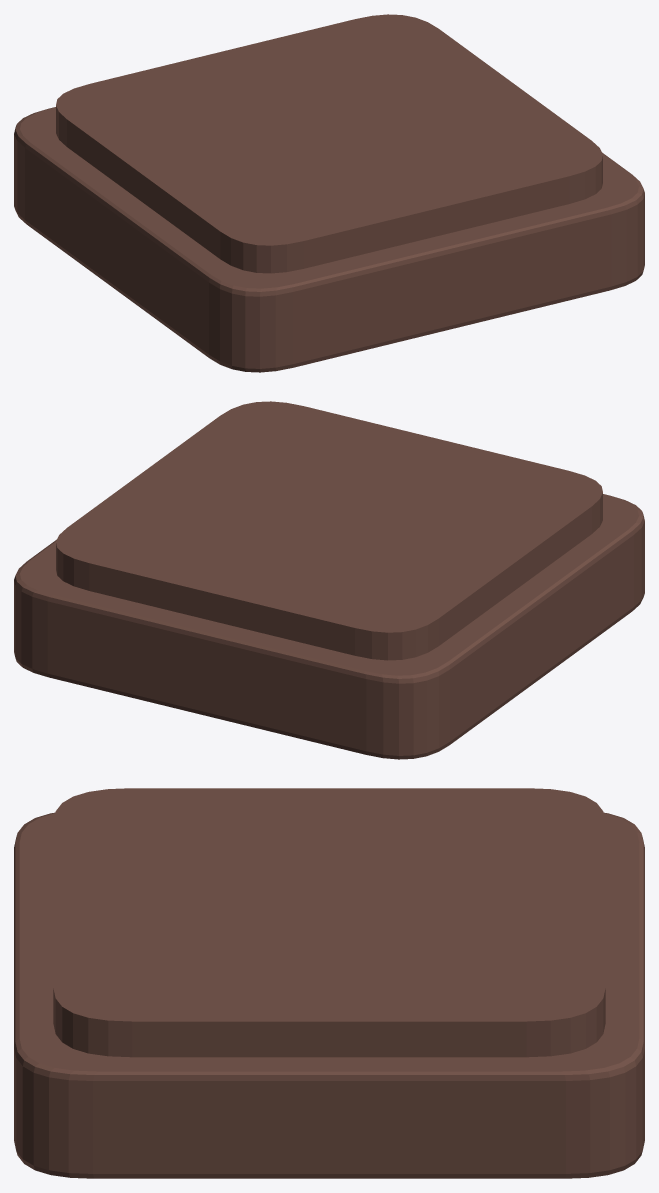
File: h-004_light_01_F.FBX
3 views of the same model, one above another, from view 1: azimuth 30°, elevation 25°; view 2: azimuth 150°, elevation 25°; view 3: azimuth 270°, elevation 25° (orthographic). The views are drawn at different scales.
Parts seen in each view (by area): view 1: h-004_light_01; view 2: h-004_light_01; view 3: h-004_light_01.
Part boxes in pixels (x1=…): h-004_light_01: x1=14, y1=14, x2=644, y2=372; h-004_light_01: x1=14, y1=401, x2=644, y2=759; h-004_light_01: x1=14, y1=788, x2=644, y2=1178.
Size of the model in its own units: 8 by 2 by 8.
